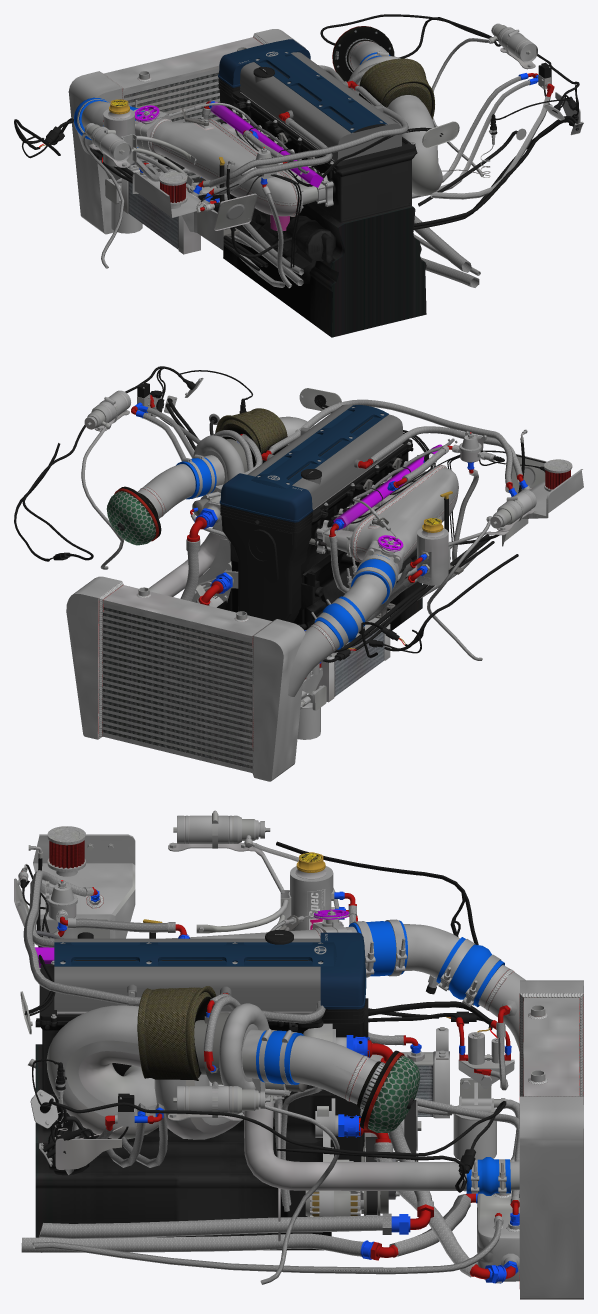
3 renders of one model, top to bottom at view 1: azimuth 30°, elevation 25°; view 2: azimuth 150°, elevation 25°; view 3: azimuth 270°, elevation 25°, orthographic. The views are drawn at different scales.
Visible parts, largest first — view 1: Object_11, Object_9, Object_3, Object_12, Object_8, Object_4, Object_5, Object_6, Object_2, Object_13; view 2: Object_9, Object_11, Object_3, Object_8, Object_6, Object_12, Object_4, Object_5, Object_2, Object_13; view 3: Object_9, Object_11, Object_12, Object_3, Object_8, Object_5, Object_4, Object_6, Object_2, Object_13.
Boxes of the visible parts, x1=… form: Object_11: x1=111, y1=58, x2=434, y2=337; Object_9: x1=68, y1=23, x2=583, y2=254; Object_3: x1=79, y1=49, x2=415, y2=236; Object_12: x1=81, y1=38, x2=550, y2=288; Object_8: x1=111, y1=51, x2=442, y2=233; Object_4: x1=14, y1=14, x2=579, y2=271; Object_5: x1=74, y1=52, x2=578, y2=211; Object_6: x1=218, y1=39, x2=310, y2=123; Object_2: x1=332, y1=26, x2=394, y2=81; Object_13: x1=99, y1=33, x2=377, y2=216; Object_9: x1=66, y1=378, x2=583, y2=781; Object_11: x1=102, y1=408, x2=570, y2=768; Object_3: x1=176, y1=404, x2=463, y2=649; Object_8: x1=182, y1=416, x2=458, y2=739; Object_6: x1=219, y1=473, x2=313, y2=622; Object_12: x1=81, y1=399, x2=522, y2=708; Object_4: x1=14, y1=366, x2=545, y2=662; Object_5: x1=131, y1=379, x2=545, y2=678; Object_2: x1=106, y1=486, x2=161, y2=545; Object_13: x1=98, y1=465, x2=532, y2=777; Object_9: x1=14, y1=810, x2=583, y2=1299; Object_11: x1=35, y1=840, x2=432, y2=1250; Object_12: x1=21, y1=843, x2=519, y2=1284; Object_3: x1=35, y1=909, x2=504, y2=1234; Object_8: x1=46, y1=910, x2=496, y2=1241; Object_5: x1=20, y1=852, x2=519, y2=1283; Object_4: x1=22, y1=841, x2=506, y2=1192; Object_6: x1=320, y1=932, x2=368, y2=1161; Object_2: x1=357, y1=1050, x2=420, y2=1132; Object_13: x1=86, y1=894, x2=583, y2=1288.
Size of the model in its own units: 1.56 by 0.7148 by 1.23.
6 materials, 6 textured.
